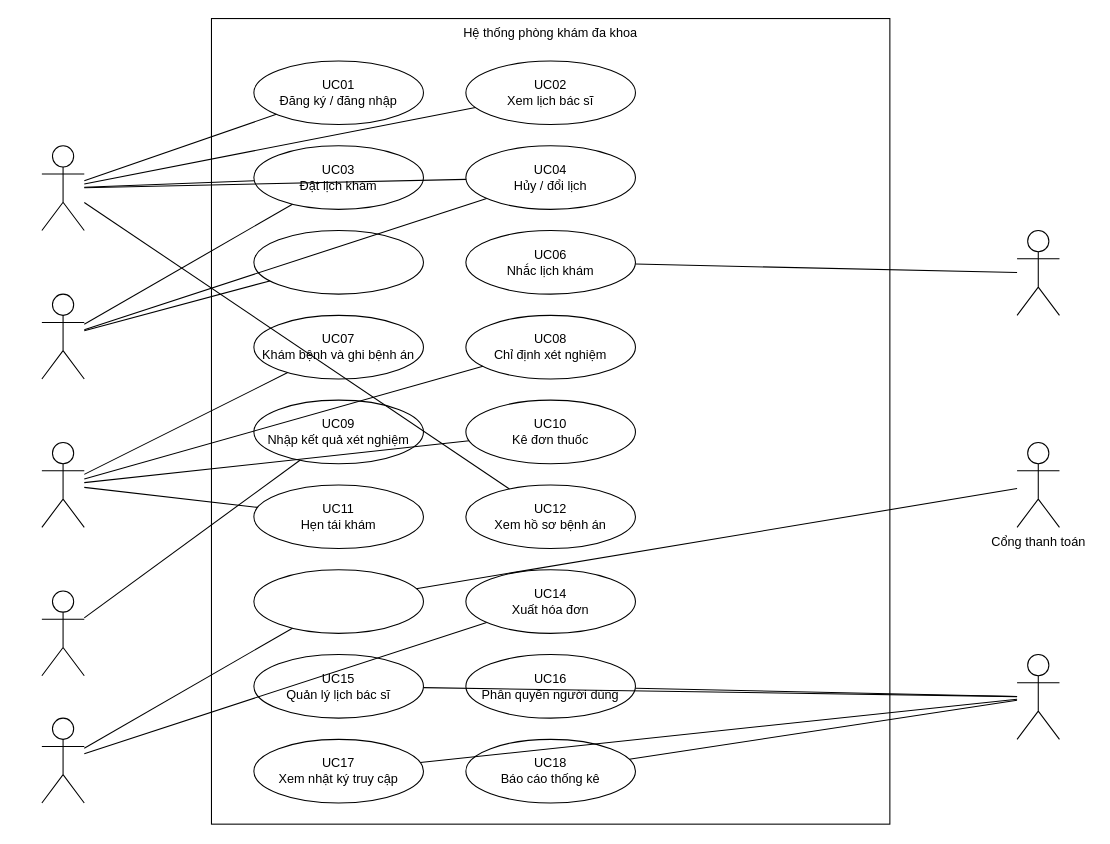
Image size: 1110x844. Some labels were removed from this diagram. The box of each missing label's shape, as (x1, y1, x2, y2) in pixels:
Bác sĩ: (41, 441, 84, 527)
Bệnh nhân: (41, 145, 84, 231)
Dịch vụ SMS/email: (1016, 229, 1059, 315)
KTV xét nghiệm: (41, 590, 84, 676)
Lễ tân: (41, 293, 84, 379)
Quản lý: (1016, 653, 1059, 739)
Thu ngân: (41, 717, 84, 803)
UC05 Tiếp đón và xếp hàng: (253, 229, 423, 294)
UC13 Thanh toán: (253, 569, 423, 633)
